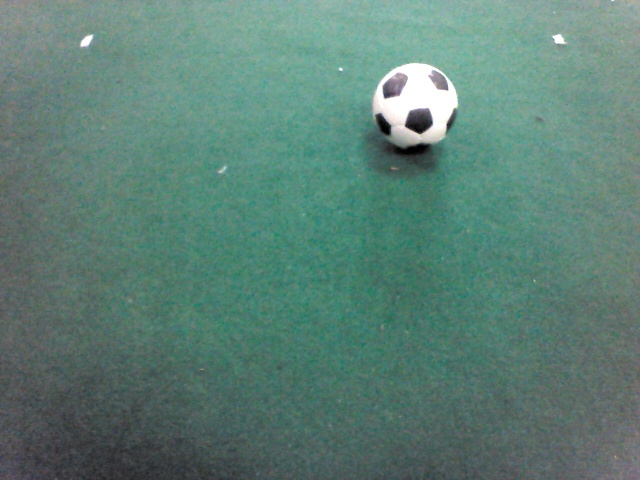ball: (370, 61, 460, 153)
